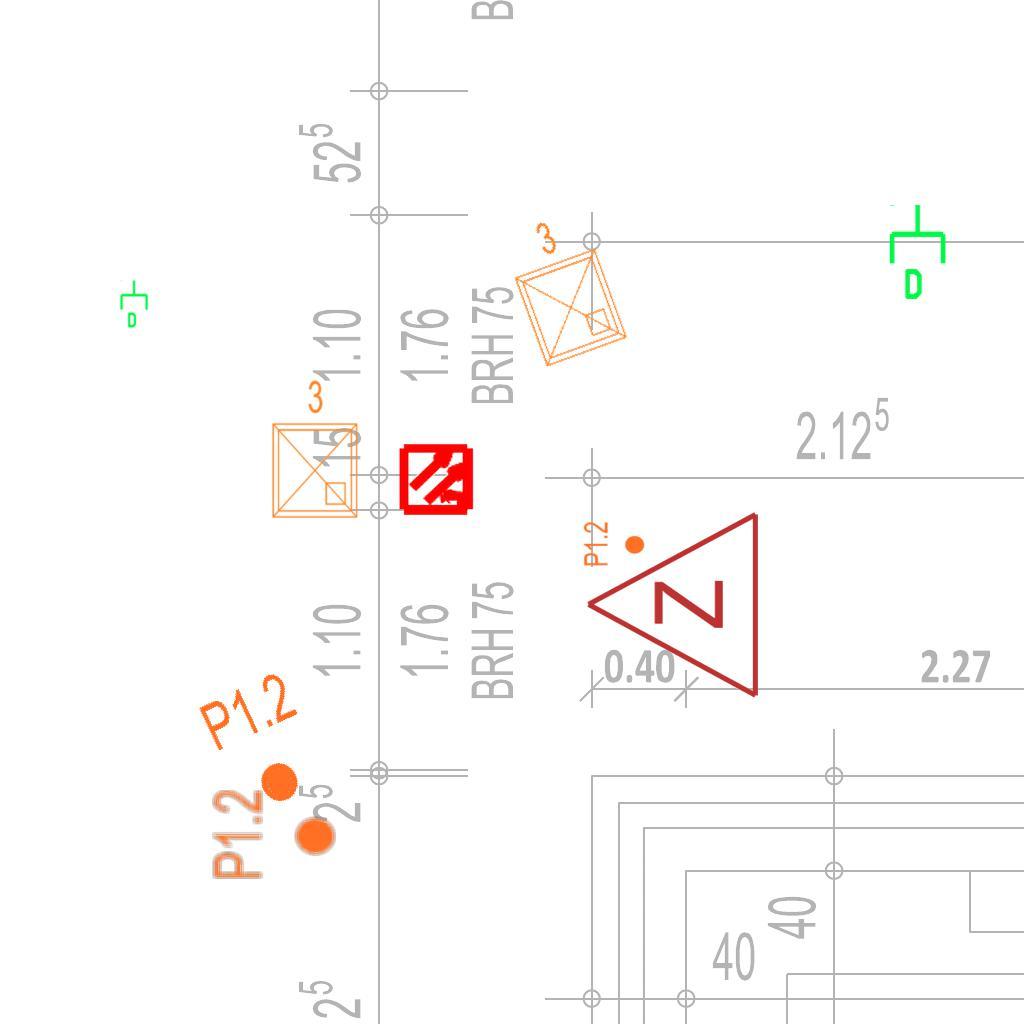Datenanschluss_einfach: (885, 202, 954, 302), (118, 279, 152, 329)
Downlight_LED_Einbauleuchten_Flur: (194, 666, 333, 822), (210, 788, 338, 881), (582, 521, 646, 567)
Einbaudownlights_LED_Konferenzraeume: (487, 200, 637, 378), (261, 375, 365, 525)
OT_Multisensormelder_(Kombination_RMO_WMD): (382, 423, 495, 536)
Zimmersignalleuchte: (573, 509, 773, 705)
